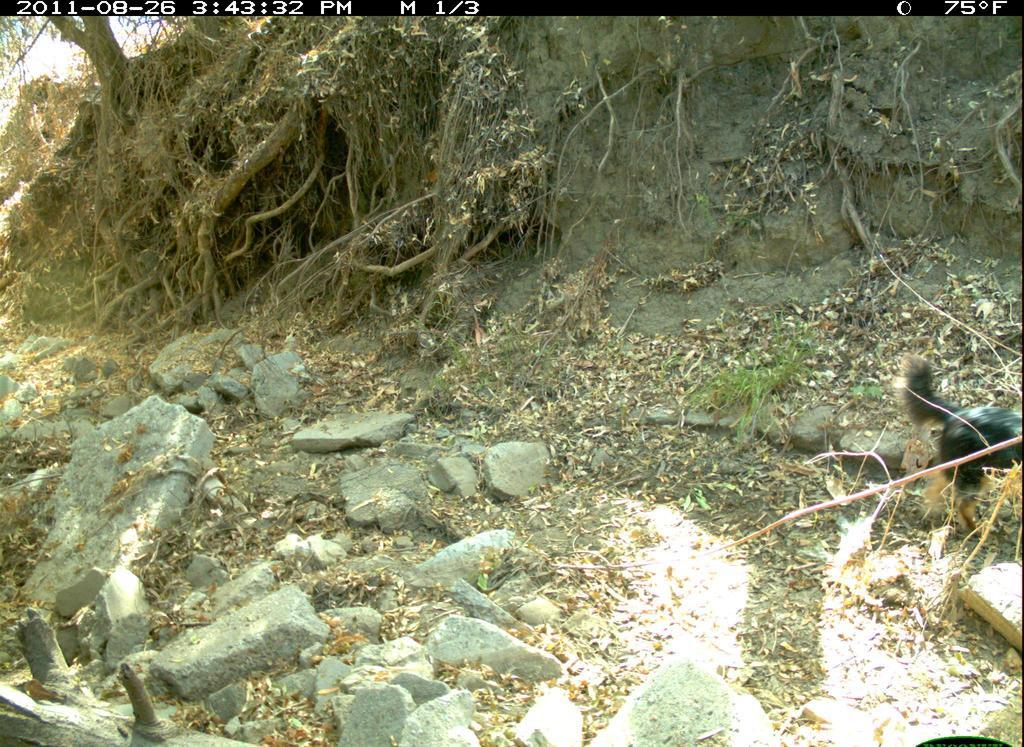dog: (879, 301, 1022, 495)
